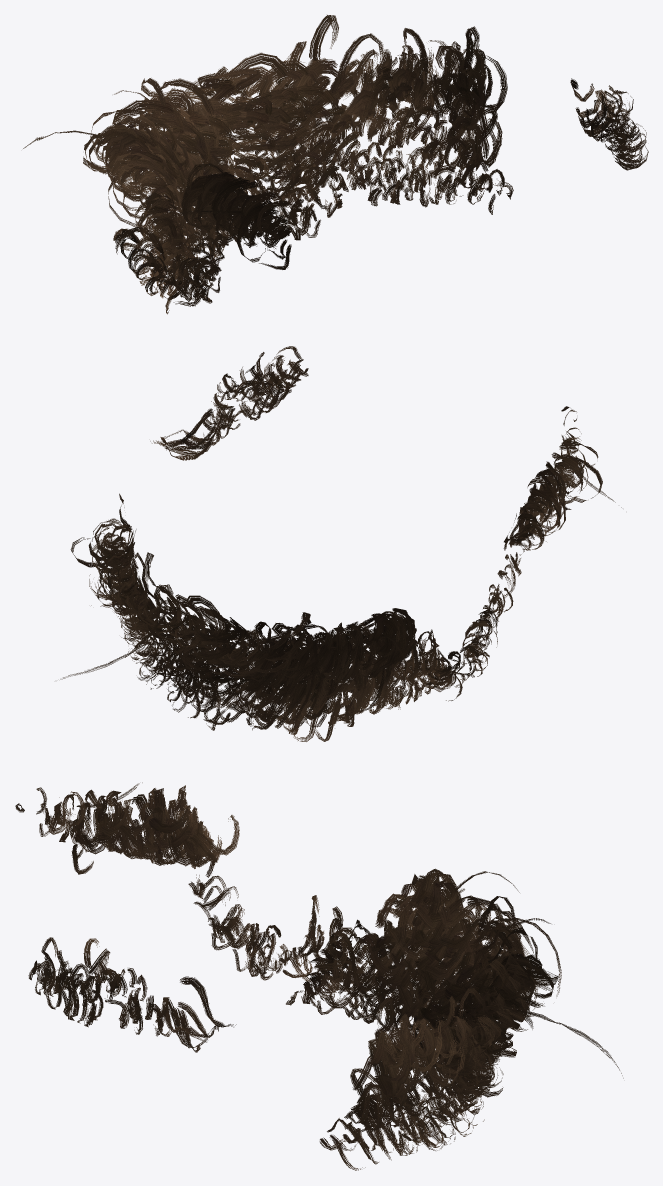
Rendered from cap-hair-curly-v41.glb.
3 renders of one model, top to bottom at view 1: azimuth 30°, elevation 25°; view 2: azimuth 150°, elevation 25°; view 3: azimuth 270°, elevation 25°, orthographic. The views are drawn at different scales.
Visible parts, largest first — view 1: hair-curly-v41; view 2: hair-curly-v41; view 3: hair-curly-v41.
Boxes of the visible parts, bbox=[...] form: hair-curly-v41: bbox=[23, 15, 648, 314]; hair-curly-v41: bbox=[60, 346, 621, 741]; hair-curly-v41: bbox=[15, 782, 623, 1170].
Bounding box in the file's own units: 1.28 × 0.5955 × 1.33.
Materials: 1 (1 with a texture image).
